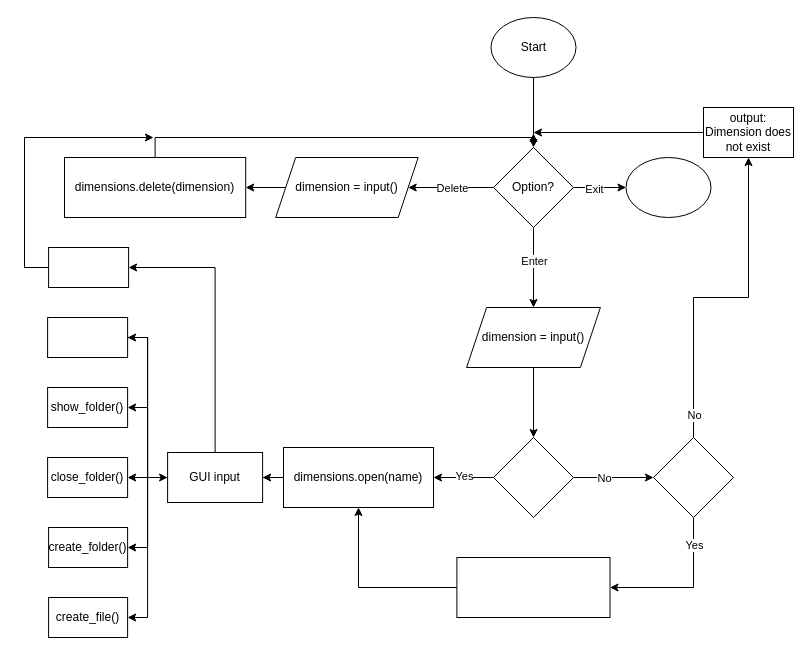
Image size: 811x655. Some labels were removed from this diagram. The shapes that lost their labels are listed below. From the top down, each one's centre as x and y in pixels, then its label:
At point (668, 187): "End".
At point (88, 267): "return".
At point (87, 337): "open_file()".
At point (533, 477): "Exists?".
At point (693, 477): "New?".
At point (533, 587): "dimensions.create(name)".
